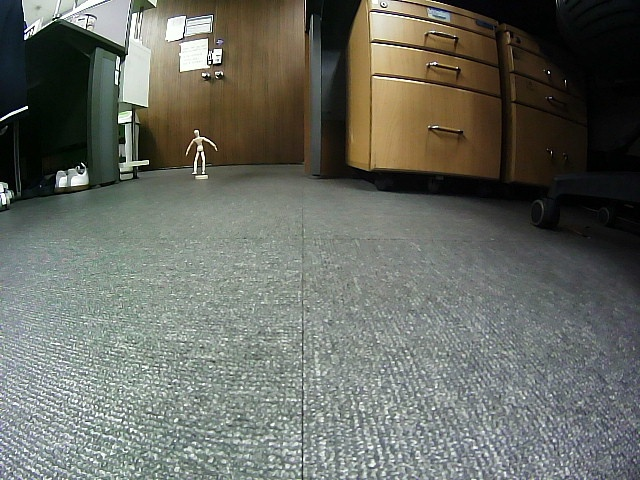person: (185, 129, 217, 174)
